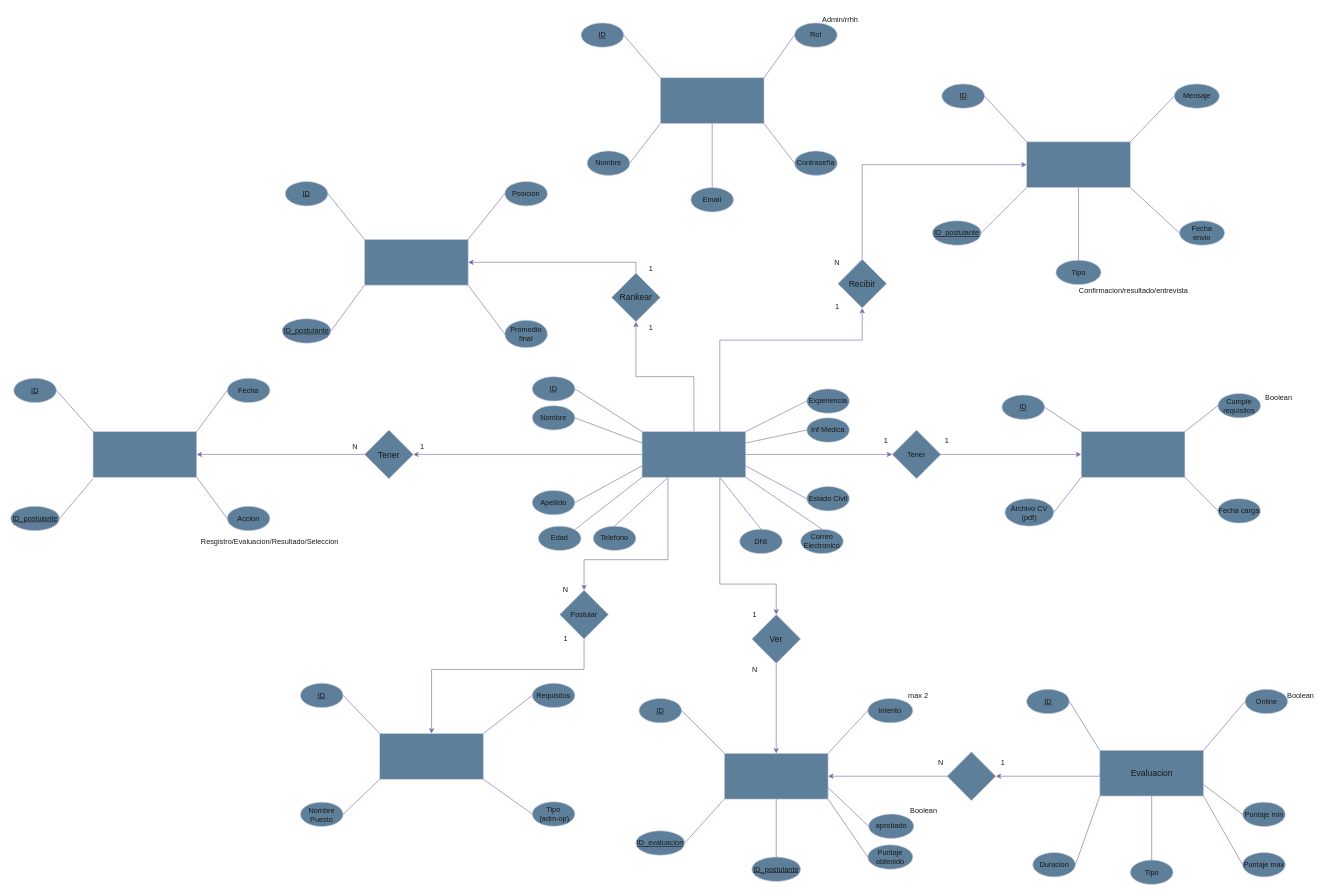
Some shapes in this 1329 by 895 pixel diagram are drawn without their labels. The centre of each missing label's shape, as x and y in pixels:
"CV" belongs at (x=1133, y=454).
"Devolver" belongs at (x=971, y=776).
"Historial" belongs at (x=144, y=454).
"Notificación" belongs at (x=1078, y=164).
"Postulante" belongs at (x=693, y=454).
"Puesto" belongs at (x=431, y=756).
"Ranking" belongs at (x=416, y=262).
"Resultado_Evaluacion" belongs at (x=776, y=776).
"Usuario" belongs at (x=712, y=100).
